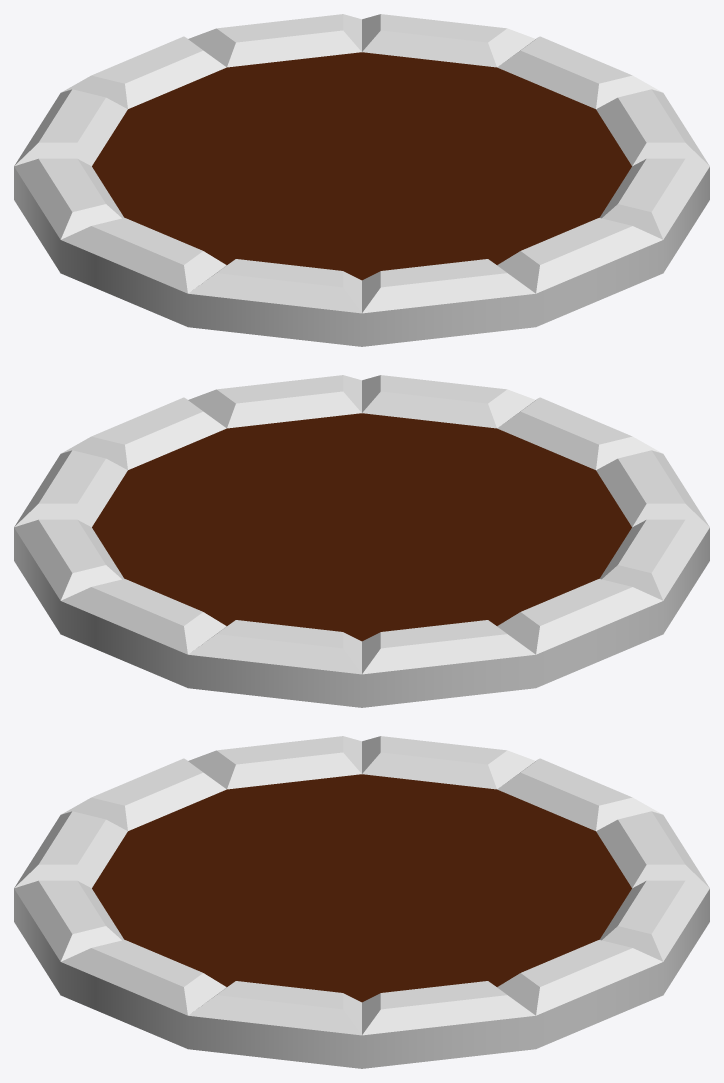
File: testtest.FBX
3 views of the same model, one above another, from view 1: azimuth 30°, elevation 25°; view 2: azimuth 150°, elevation 25°; view 3: azimuth 270°, elevation 25° (orthographic).
Parts seen in each view (by area): view 1: Cylinder001; view 2: Cylinder001; view 3: Cylinder001.
Part boxes in pixels (x1=…): Cylinder001: x1=14, y1=14, x2=709, y2=346; Cylinder001: x1=14, y1=375, x2=709, y2=707; Cylinder001: x1=14, y1=736, x2=709, y2=1068.
Size of the model in its own units: 600 by 46.73 by 600.
